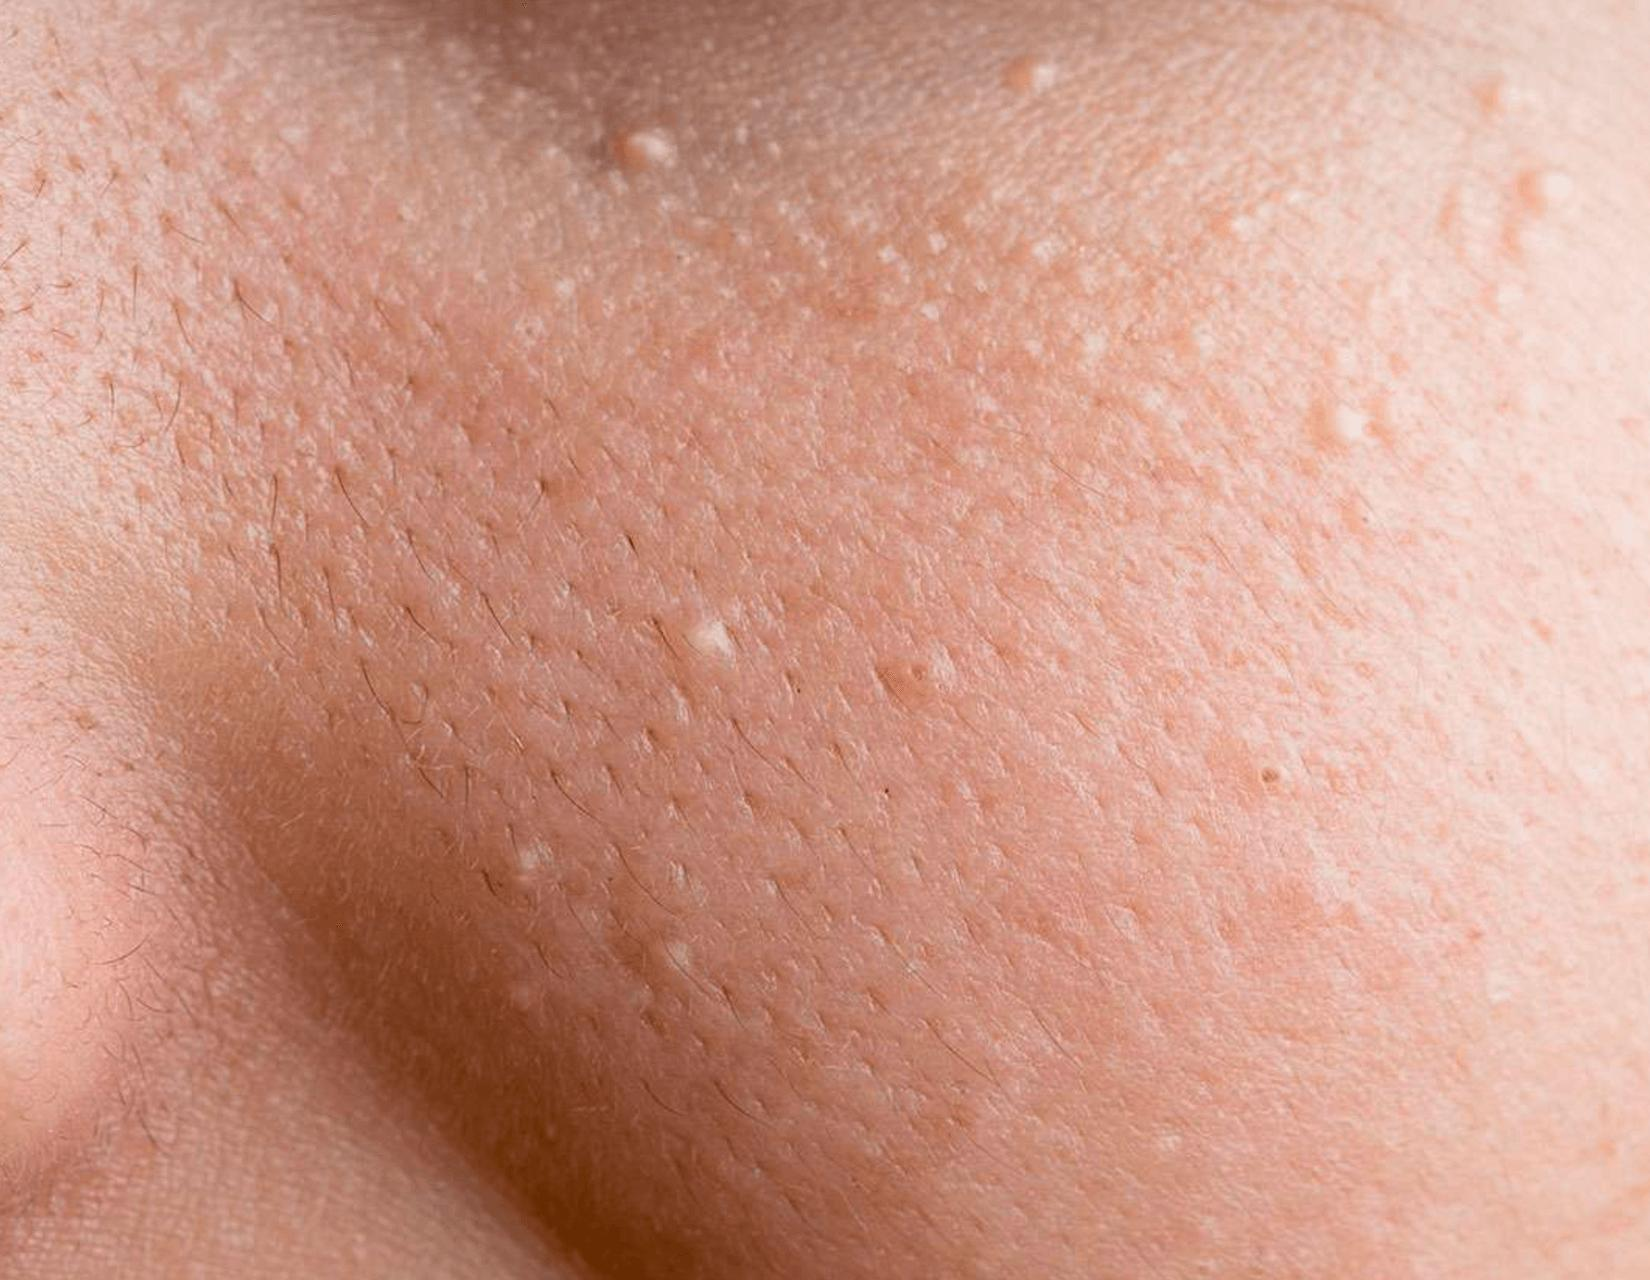blackhead: (1197, 727, 1371, 853)
flat_wart: (1401, 54, 1584, 329), (533, 66, 731, 266), (964, 27, 1158, 161)
whitehead: (674, 557, 789, 706), (637, 923, 729, 1038), (483, 807, 562, 935)
